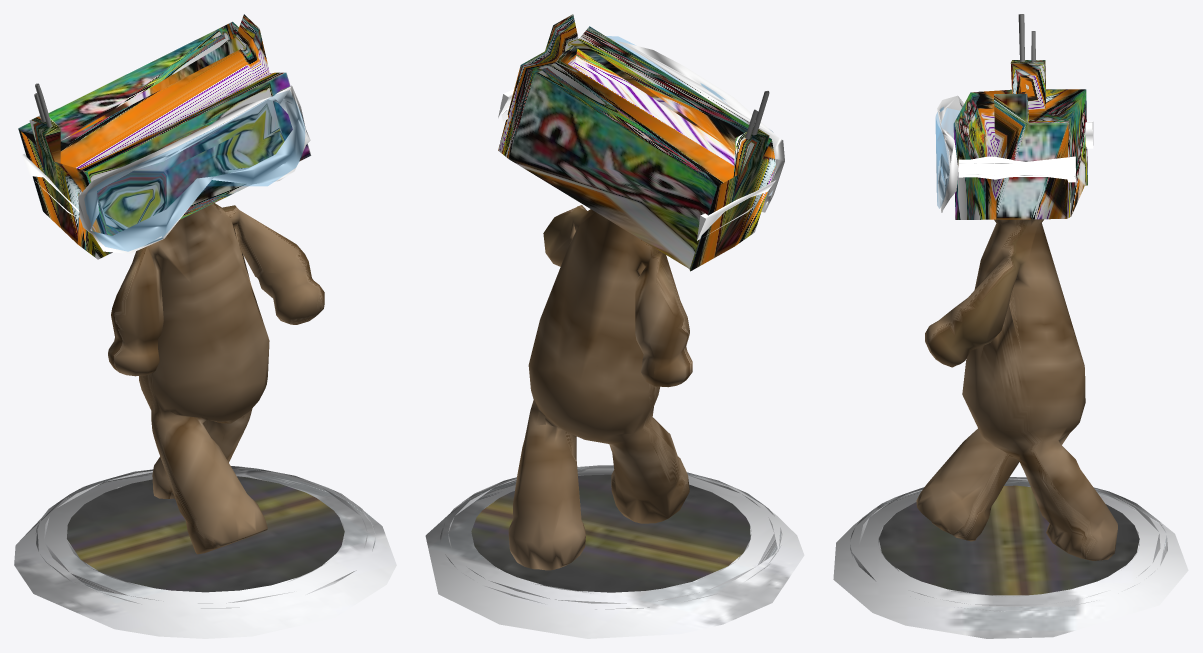
3 views of the same model, side by side, from view 1: azimuth 30°, elevation 25°; view 2: azimuth 150°, elevation 25°; view 3: azimuth 270°, elevation 25° (orthographic). The views are drawn at different scales.
Bounding box in the file's own units: 1.44 × 2.18 × 1.43.
Materials: 8 (4 with a texture image).
